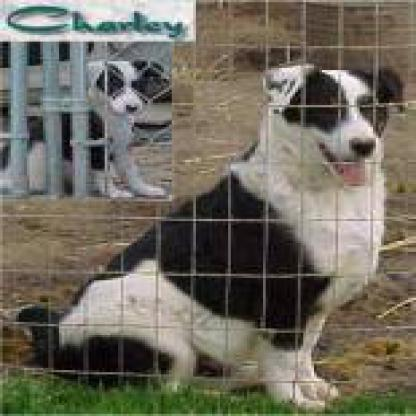dog: (217, 55, 400, 348), (48, 43, 187, 219)
